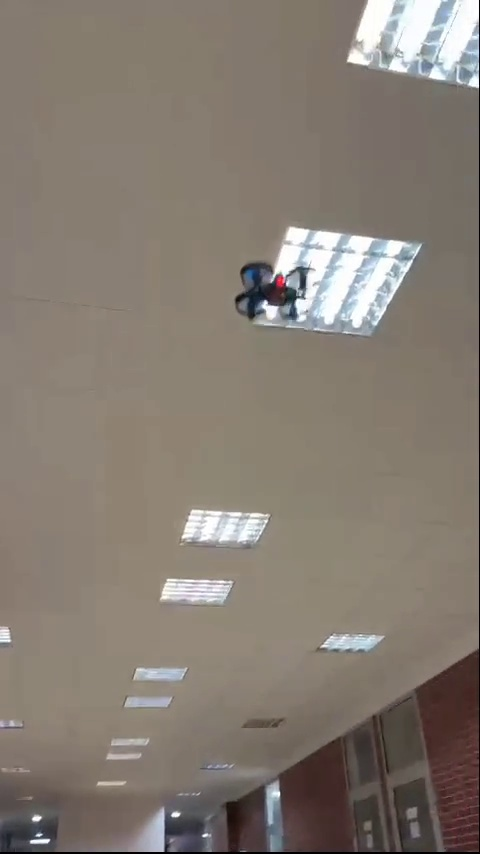drone: (235, 264, 318, 326)
